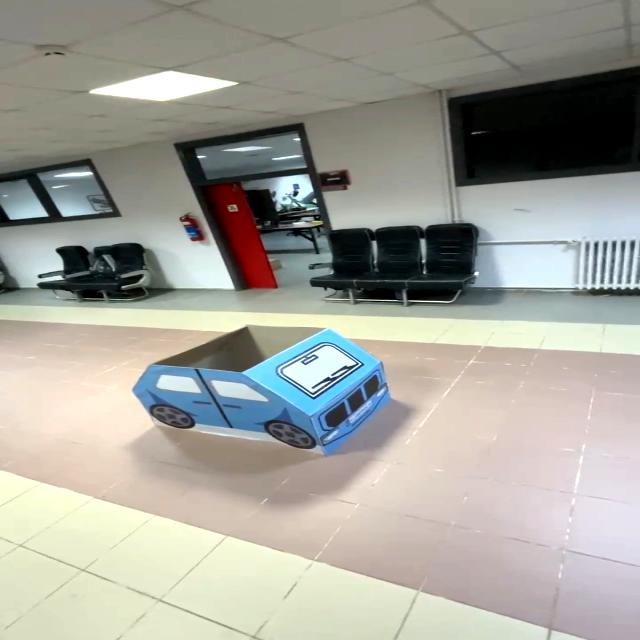blue_car: (92, 313, 414, 475)
